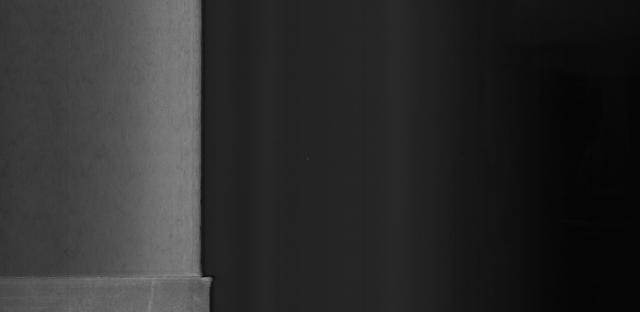welding_line: (5, 269, 212, 287)
